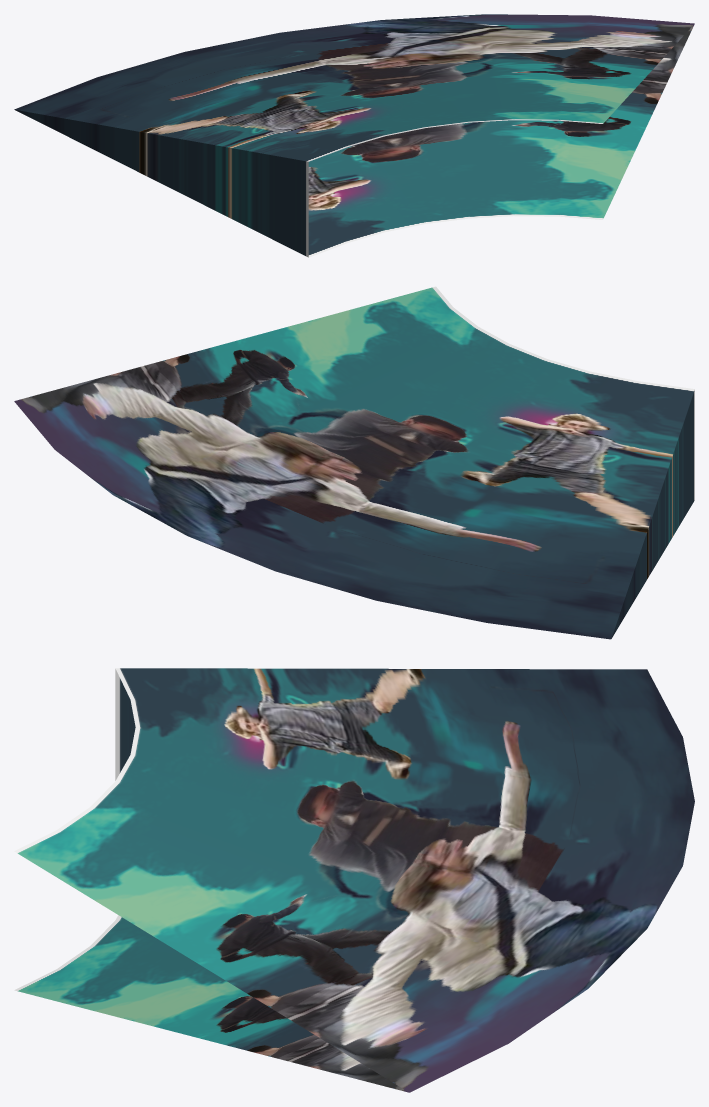
File: Vfx_SwordSlash_finatrail.fbx
The picture shows the model from 3 angles, top to bottom: view 1: azimuth 30°, elevation 25°; view 2: azimuth 150°, elevation 25°; view 3: azimuth 270°, elevation 25°; orthographic projection. The views are drawn at different scales.
Visible parts, largest first — view 1: SwordSlash_finatrail; view 2: SwordSlash_finatrail; view 3: SwordSlash_finatrail.
Boxes of the visible parts, left/top/right/bottom form: SwordSlash_finatrail: left=14, top=14, right=694, bottom=257; SwordSlash_finatrail: left=14, top=286, right=694, bottom=639; SwordSlash_finatrail: left=14, top=668, right=694, bottom=1092.
Size of the model in its own units: 163 by 24.96 by 111.
1 material, 1 textured.
